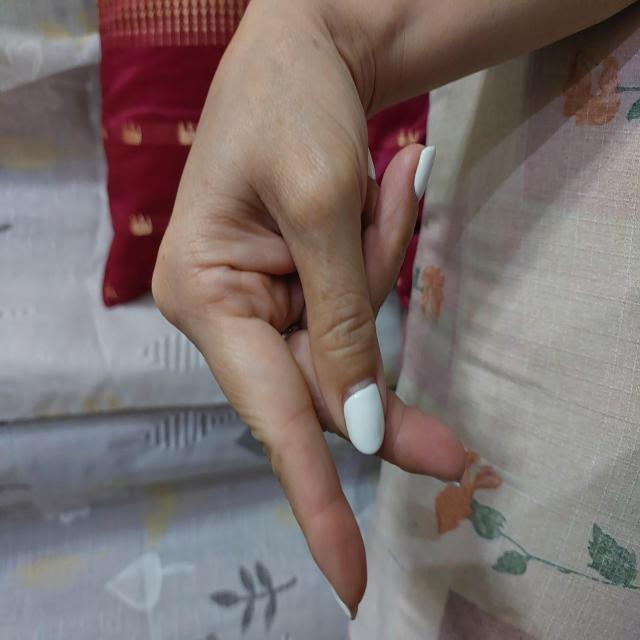P: (15, 148, 619, 470)
